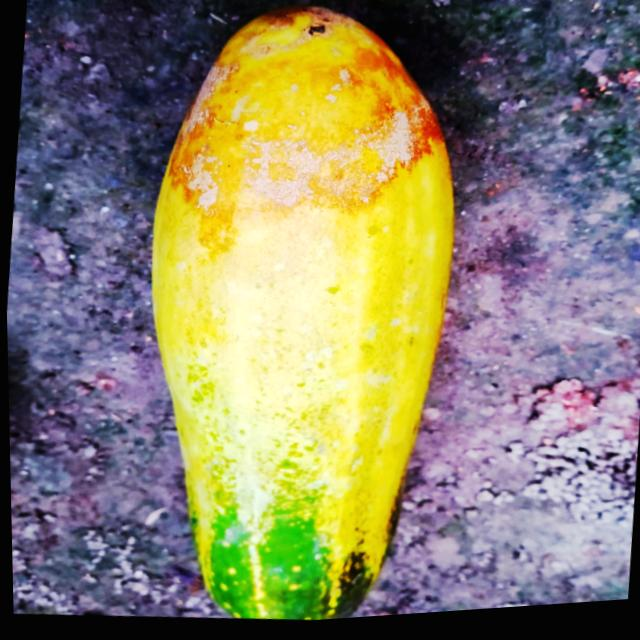Belly-Rot: (152, 0, 461, 293)
